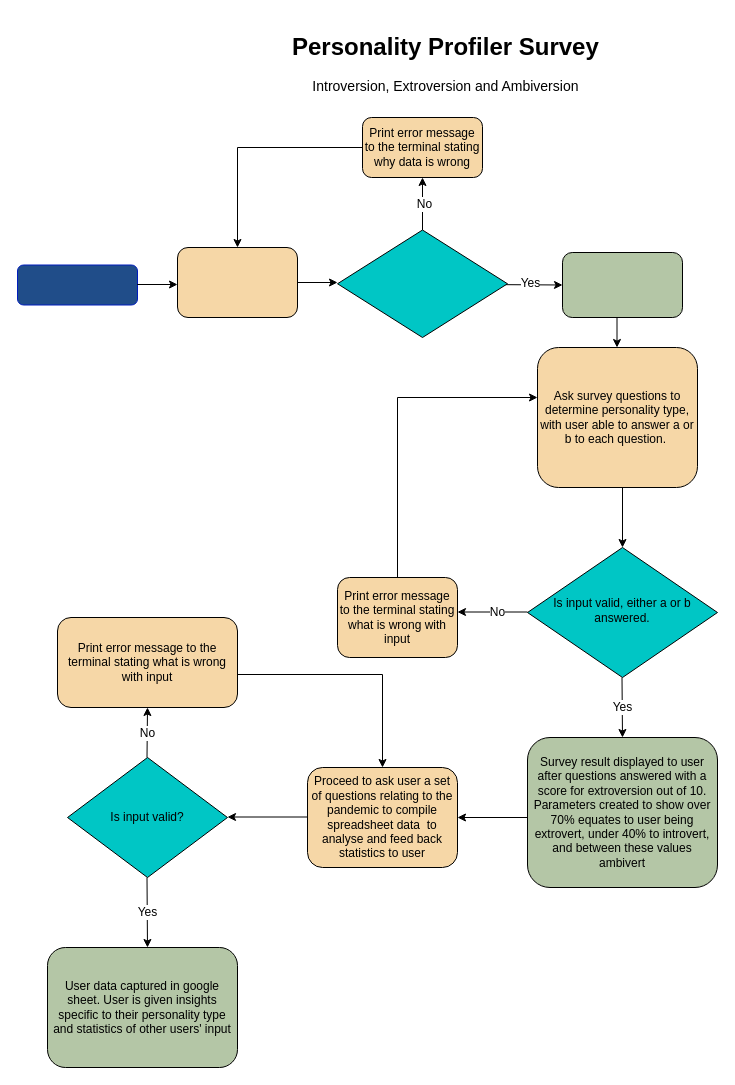
This 735x1085 diagram has some shape labels left out. Each missing label, with the centre of its shape:
Ask user to input their initial details: the point at 237,282
Give user feedback on input: the point at 622,285
Is inputted answer an valid?: the point at 422,283
START: the point at 77,284
